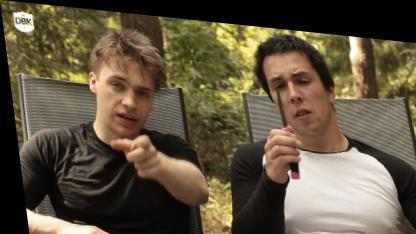knife: (260, 71, 304, 178)
